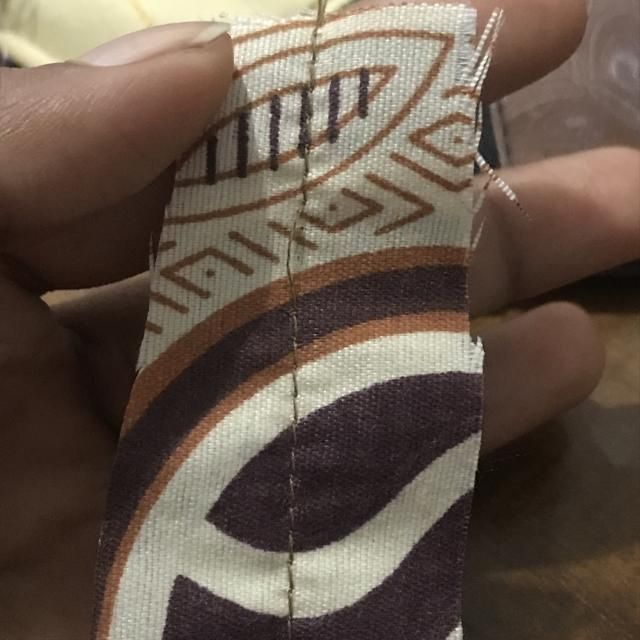skip: (270, 180, 334, 317)
